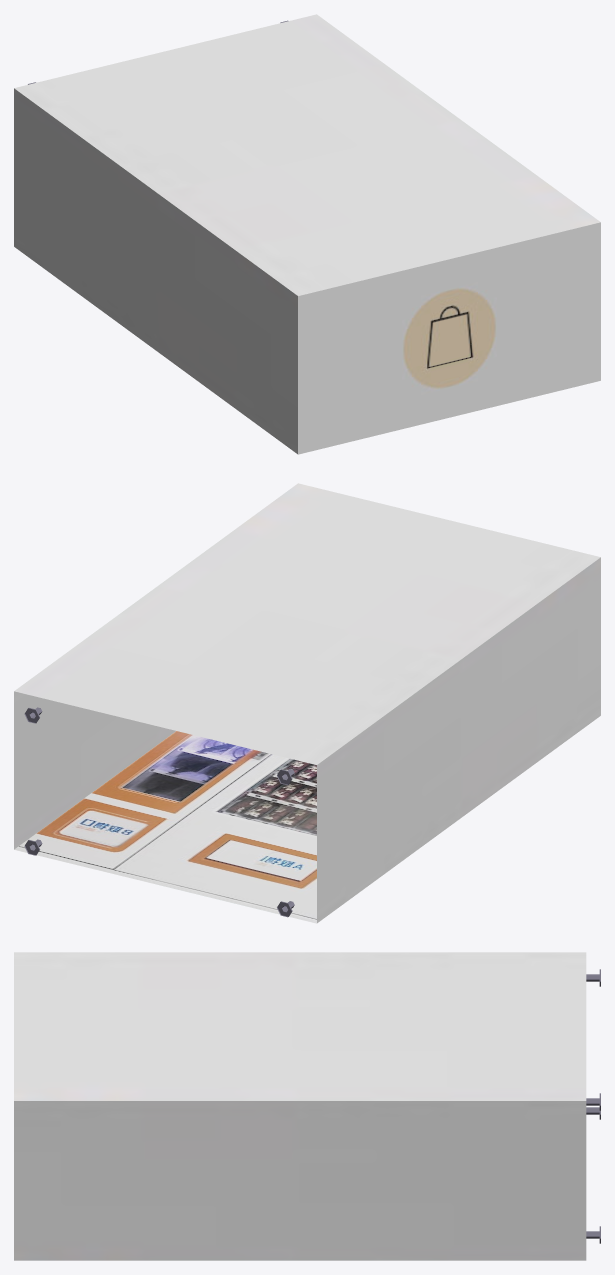
The picture shows the model from 3 angles, top to bottom: view 1: azimuth 30°, elevation 25°; view 2: azimuth 150°, elevation 25°; view 3: azimuth 270°, elevation 25°; orthographic projection.
Visible parts, largest first — view 1: Box001; view 2: Box001; view 3: Box001.
Boxes of the visible parts, x1,y1,x2,y2 form: Box001: (14,14,600,454); Box001: (14,483,600,923); Box001: (14,952,600,1260).
Bounding box in the file's own units: 1.2 × 0.6 × 2.
Materials: 2 (2 with a texture image).
